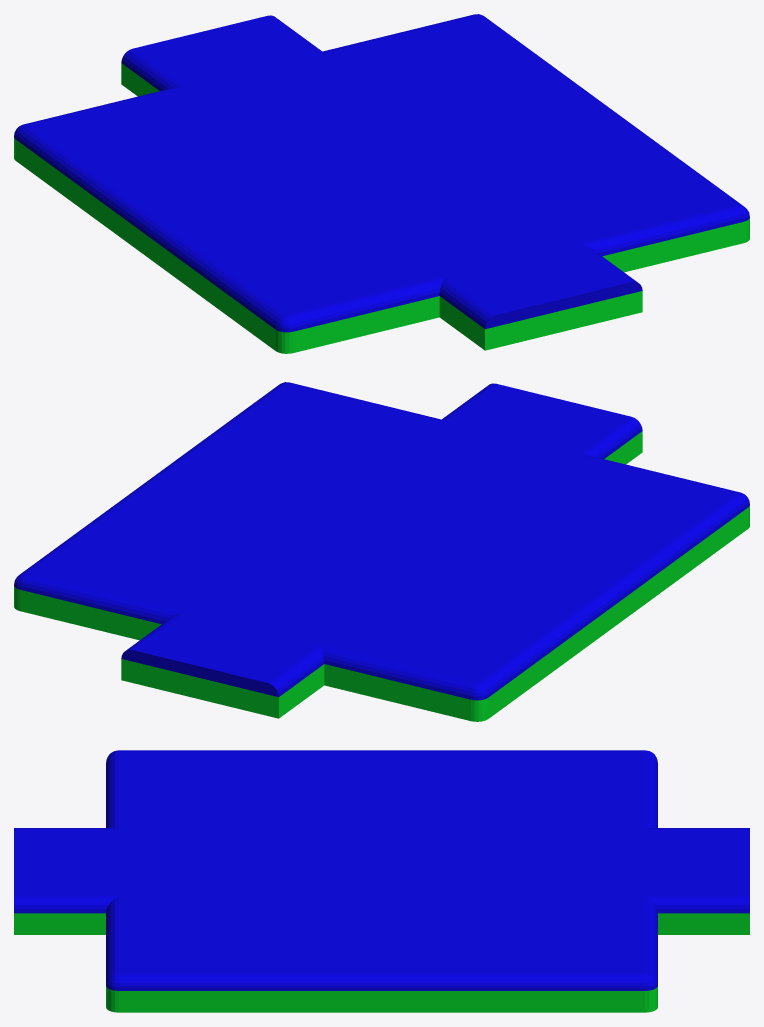
3 views of the same model, one above another, from view 1: azimuth 30°, elevation 25°; view 2: azimuth 150°, elevation 25°; view 3: azimuth 270°, elevation 25° (orthographic).
Parts seen in each view (by area): view 1: plank7; view 2: plank7; view 3: plank7.
Part boxes in pixels (x1,y1,x2,y2): plank7: (14, 14, 749, 353); plank7: (14, 382, 749, 721); plank7: (14, 750, 749, 1012).
Bounding box in the file's own units: 1500 × 100 × 2000.
